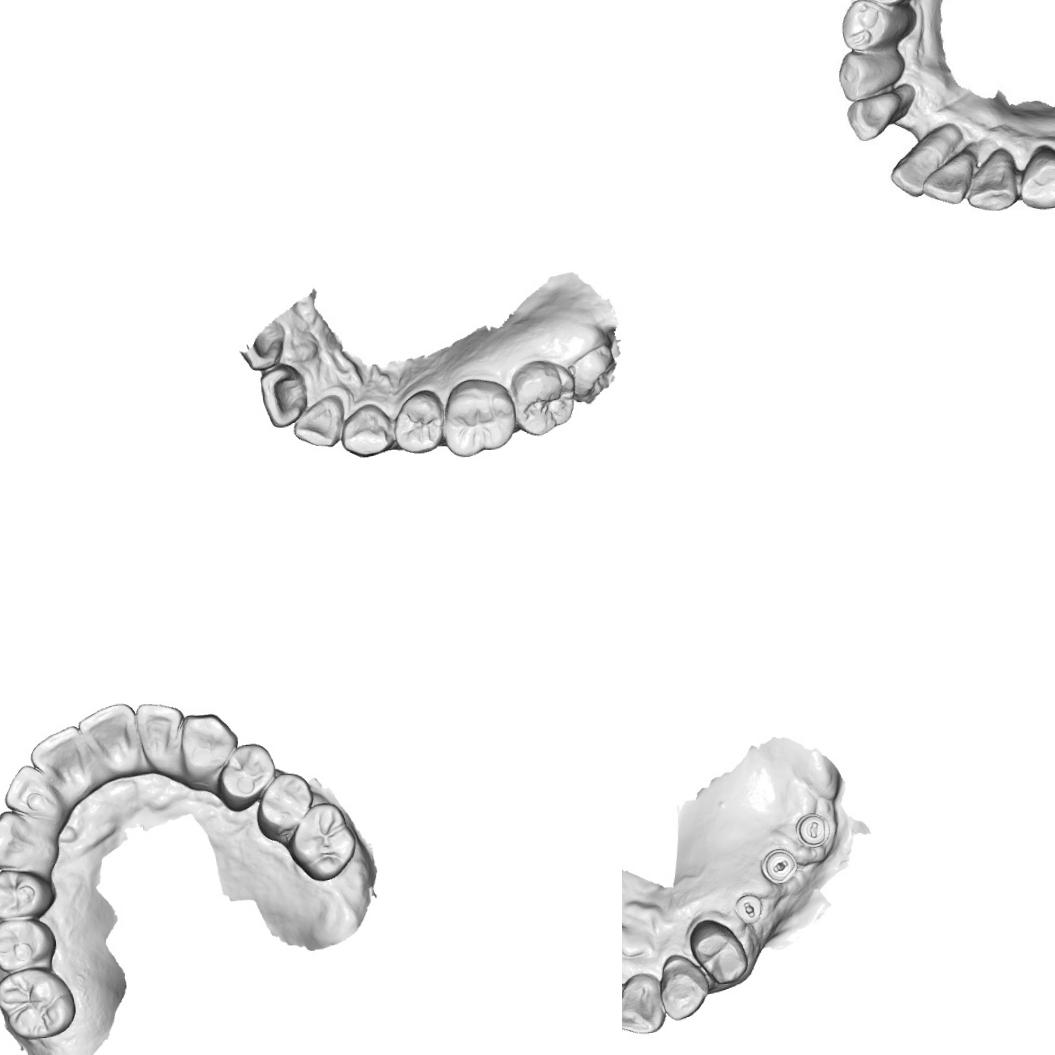canine: (178, 711, 240, 791), (0, 806, 60, 878), (962, 144, 1024, 212), (657, 951, 710, 1022), (338, 401, 395, 460), (837, 49, 898, 98)
implant_minus: (792, 810, 831, 850), (758, 846, 798, 885), (732, 892, 763, 924)
incisor: (76, 700, 138, 780), (27, 724, 87, 788), (136, 700, 186, 776), (894, 133, 955, 195), (257, 362, 309, 430), (844, 88, 911, 140), (1, 762, 59, 821), (916, 150, 979, 203), (290, 393, 346, 449), (622, 970, 667, 1036)
molar: (438, 375, 518, 458), (285, 800, 358, 883), (0, 964, 79, 1040), (510, 356, 578, 436)
premolar: (253, 770, 316, 842), (215, 741, 277, 812), (687, 916, 748, 986), (833, 0, 909, 50), (392, 388, 446, 456), (0, 916, 57, 972), (0, 866, 56, 919), (1012, 144, 1055, 213)
